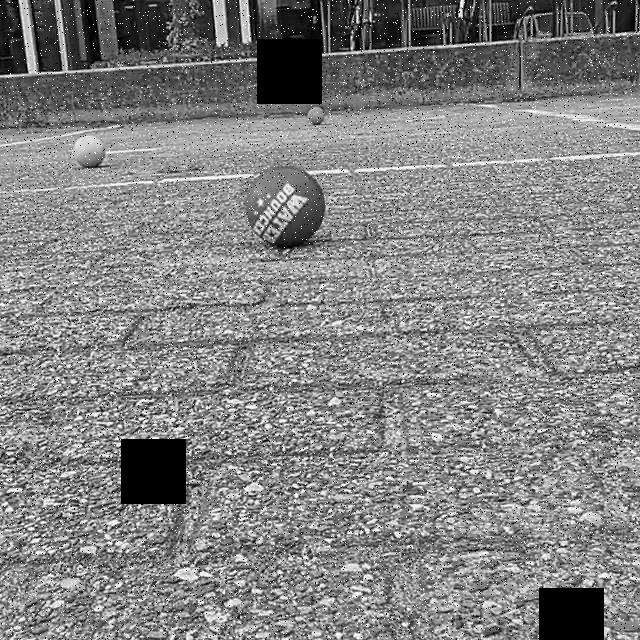ball: (70, 130, 109, 172), (304, 102, 326, 126)
